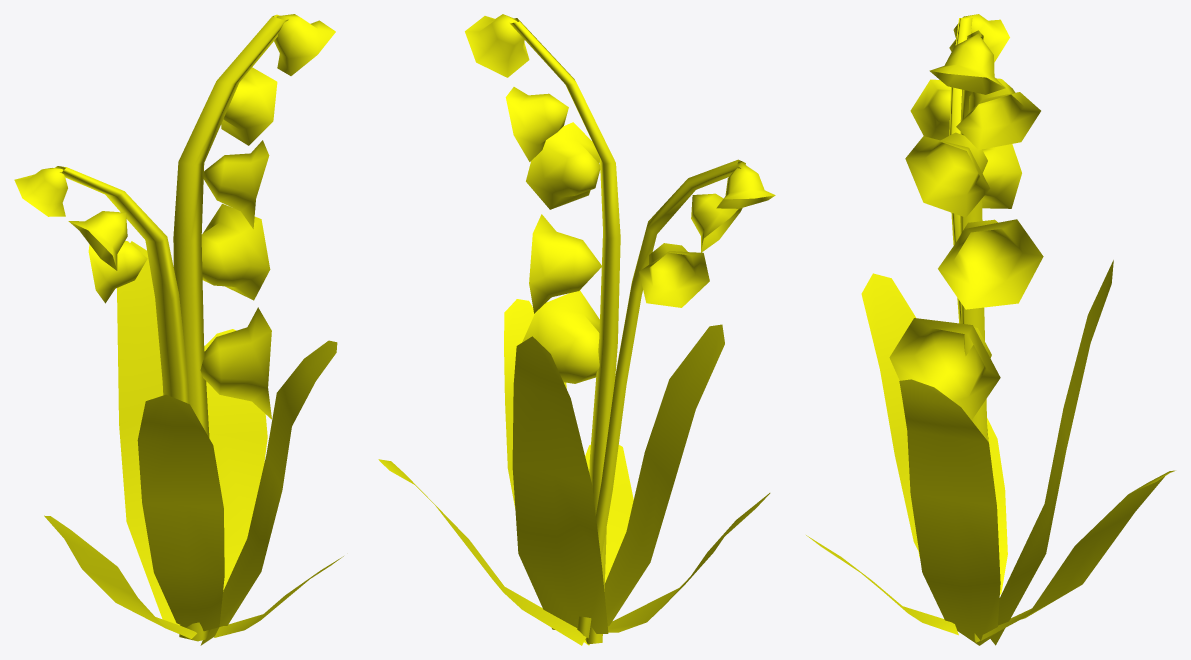
The model's file is LilyStalk_v01.fbx.
3 views of the same model, side by side, from view 1: azimuth 30°, elevation 25°; view 2: azimuth 150°, elevation 25°; view 3: azimuth 270°, elevation 25° (orthographic). The views are drawn at different scales.
Parts seen in each view (by area): view 1: LilyStalk_2; view 2: LilyStalk_2; view 3: LilyStalk_2.
Boxes of the visible parts, x1,y1,x2,y2 form: LilyStalk_2: (14, 14, 343, 645); LilyStalk_2: (378, 14, 775, 645); LilyStalk_2: (806, 14, 1175, 645).
Size of the model in its own units: 93.92 by 175 by 90.75.
